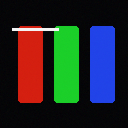3 line_h: (12, 28, 58, 30)
